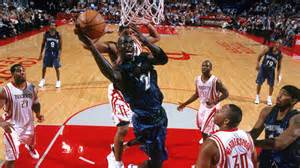basketball: (77, 11, 105, 38)
